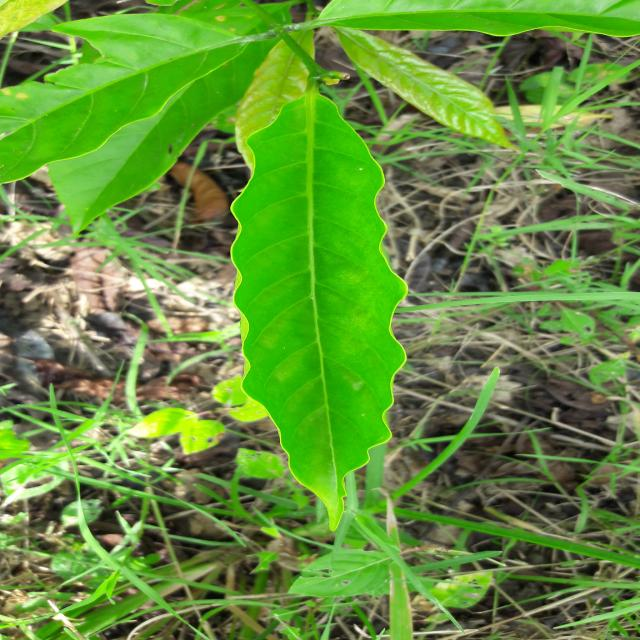Sanas: (231, 88, 406, 532)
